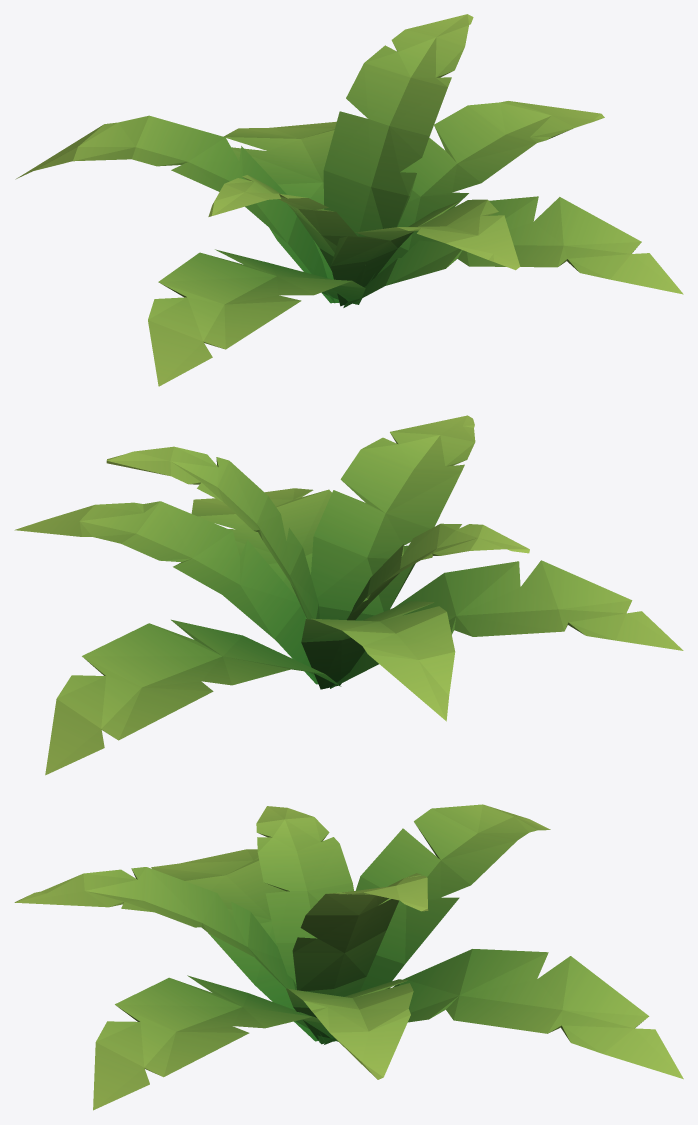
File: Plant_01.fbx
The picture shows the model from 3 angles, top to bottom: view 1: azimuth 30°, elevation 25°; view 2: azimuth 150°, elevation 25°; view 3: azimuth 270°, elevation 25°; orthographic projection. The views are drawn at different scales.
Parts seen in each view (by area): view 1: Plant_01; view 2: Plant_01; view 3: Plant_01.
Boxes of the visible parts, left/top/right/bottom form: Plant_01: left=15, top=14, right=683, bottom=386; Plant_01: left=14, top=415, right=683, bottom=775; Plant_01: left=14, top=804, right=683, bottom=1110.
Size of the model in its own units: 124 by 45.93 by 128.
